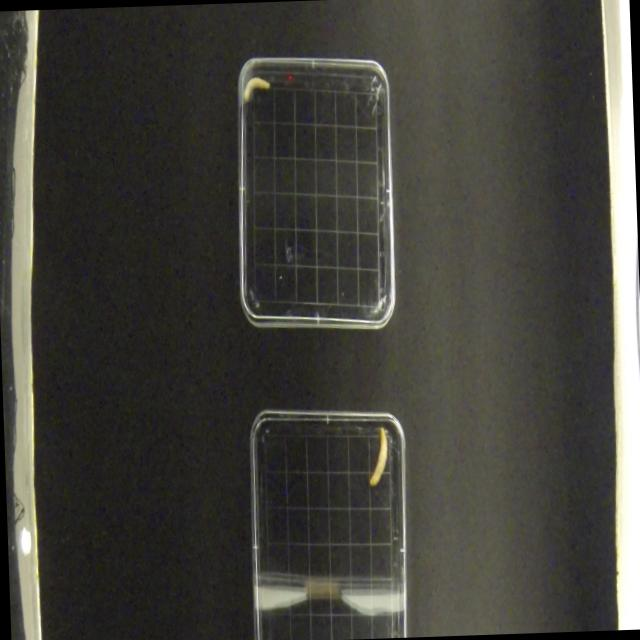larva: (366, 424, 390, 488), (242, 74, 272, 106)
